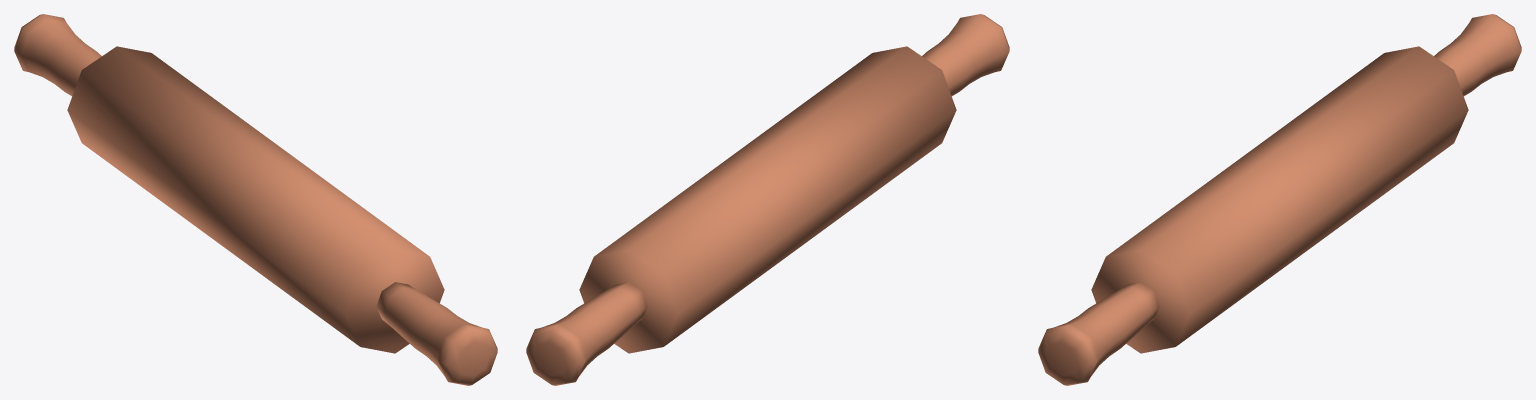
Rendered from Rolling Pin by MilkAndBanana - nbI0WJqJN3.glb.
3 renders of one model, left to right at view 1: azimuth 30°, elevation 25°; view 2: azimuth 150°, elevation 25°; view 3: azimuth 330°, elevation 25°, orthographic.
Visible parts, largest first — view 1: misc_rolling_pin_Cylinder.020; view 2: misc_rolling_pin_Cylinder.020; view 3: misc_rolling_pin_Cylinder.020.
Boxes of the visible parts, x1=… form: misc_rolling_pin_Cylinder.020: x1=14, y1=14, x2=497, y2=385; misc_rolling_pin_Cylinder.020: x1=526, y1=14, x2=1009, y2=385; misc_rolling_pin_Cylinder.020: x1=1038, y1=14, x2=1521, y2=385.
Size of the model in its own units: 1 by 1 by 7.63.
1 material, 1 textured.
